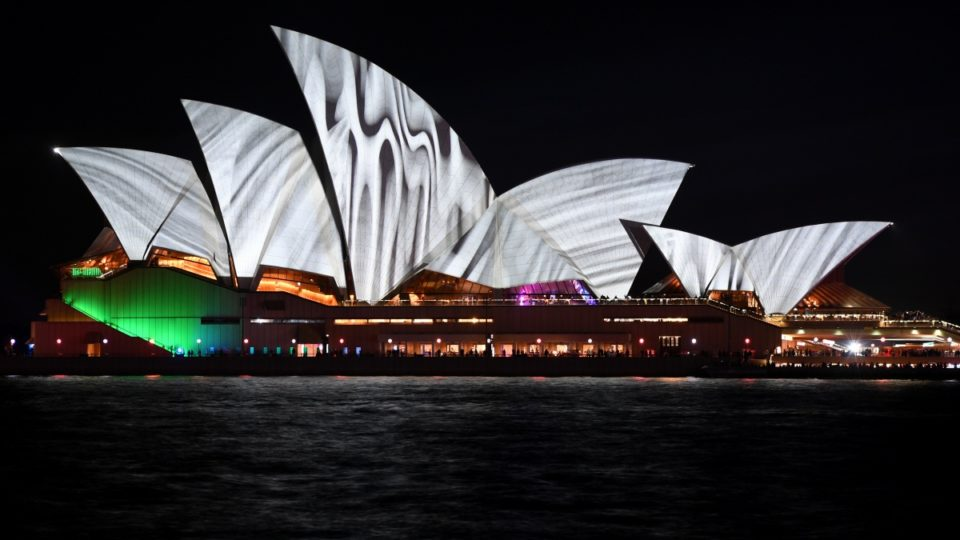opera house: (15, 18, 920, 341)
